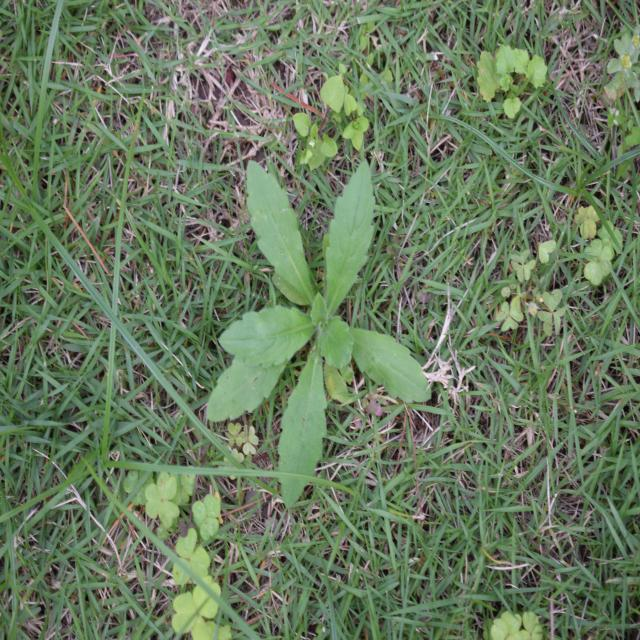horseweed: (209, 142, 422, 498)
